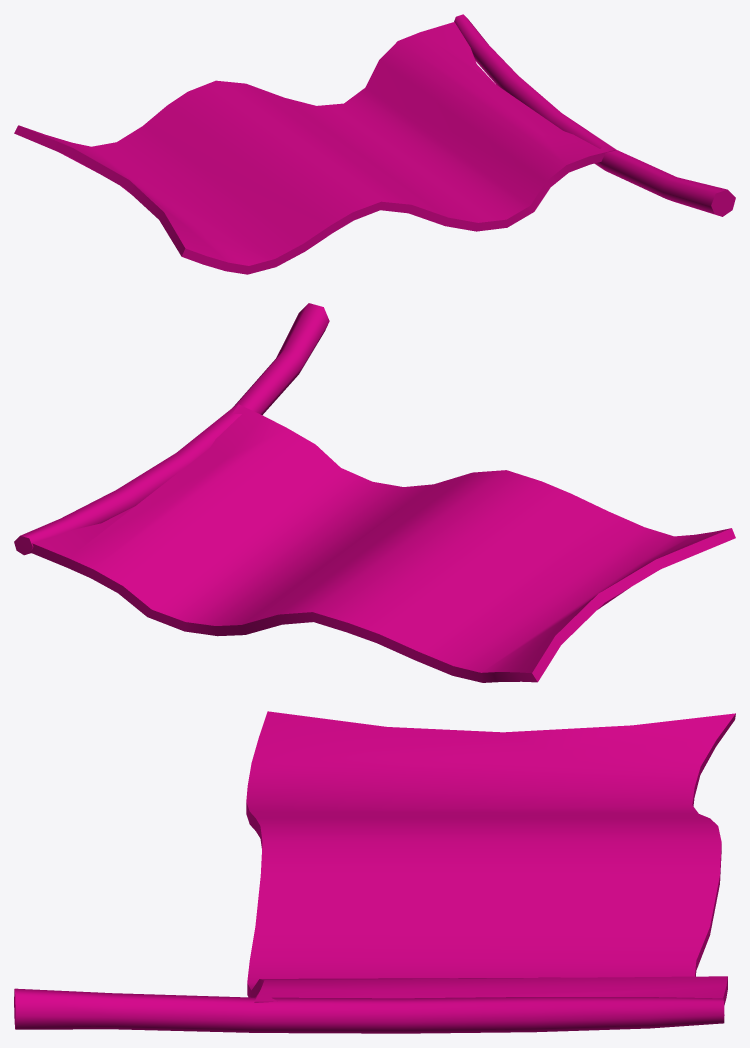
File: flags.fbx
3 views of the same model, one above another, from view 1: azimuth 30°, elevation 25°; view 2: azimuth 150°, elevation 25°; view 3: azimuth 270°, elevation 25° (orthographic). The views are drawn at different scales.
Visible parts, largest first — view 1: flag; view 2: flag; view 3: flag.
Part boxes in pixels (left/top/right/bottom): flag: left=14, top=14, right=735, bottom=274; flag: left=14, top=303, right=735, bottom=682; flag: left=14, top=711, right=735, bottom=1033.
Bounding box in the file's own units: 51200 × 7100 × 49768.
